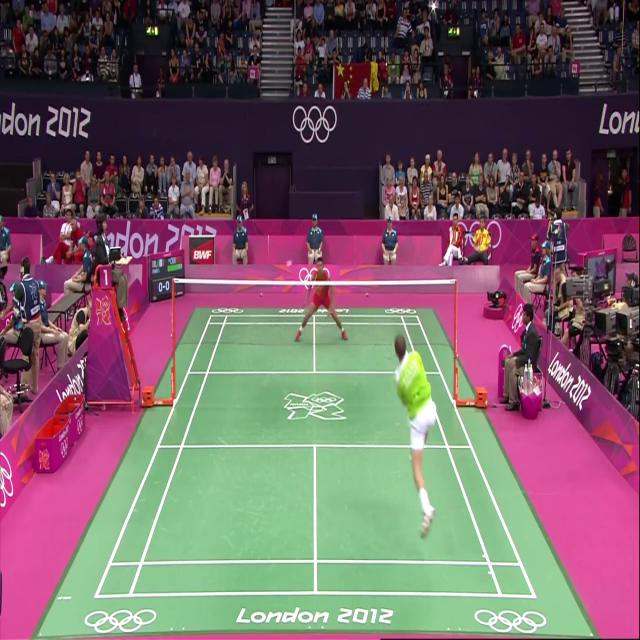Net: (174, 278, 458, 379)
Player1: (373, 304, 448, 565)
Player2: (304, 226, 339, 356)
Shuttlecock: (358, 294, 379, 317)
